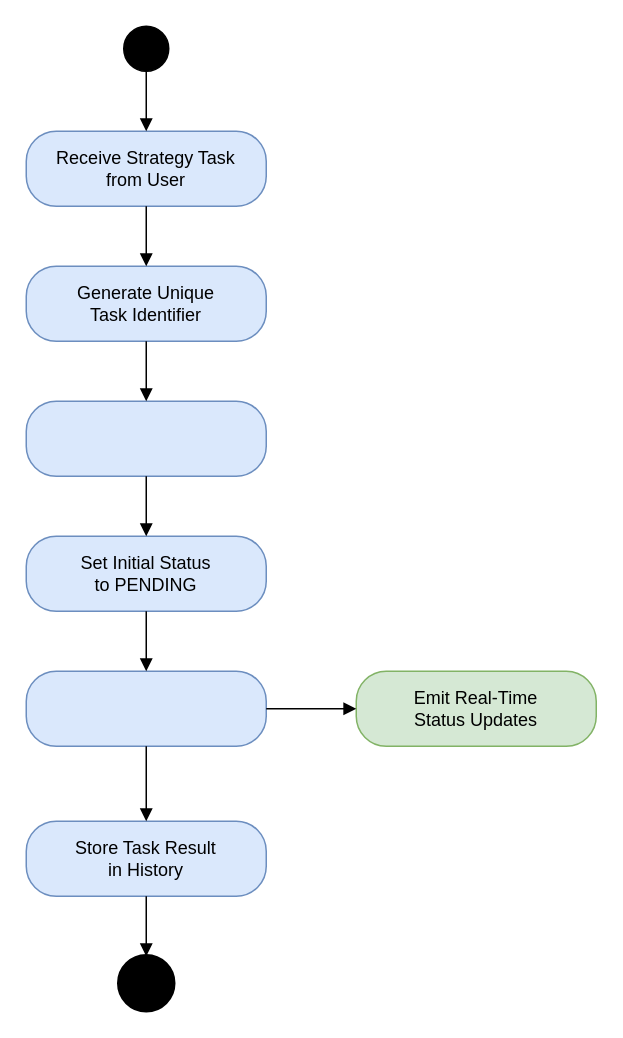
The diagram is 623 pixels wide and 1038 high, and some of its shapes have lost their labels. The shapes that lost their labels are listed below. From the top down, each one's box as (x1, y1, x2, y2) in pixels, then its label:
(25, 400, 266, 476): Queue Task in Redis
(25, 670, 266, 746): Process Task (Worker Picks Up)
